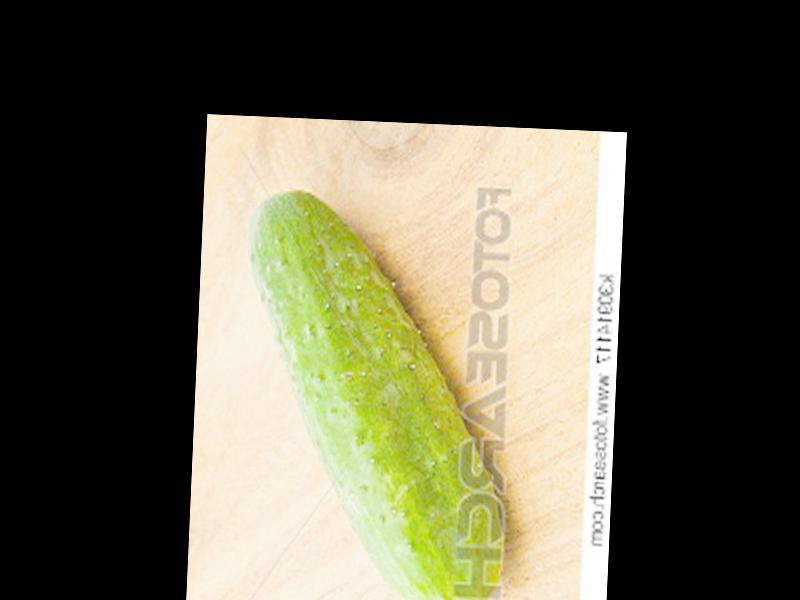Cucumber: (232, 187, 522, 600)
